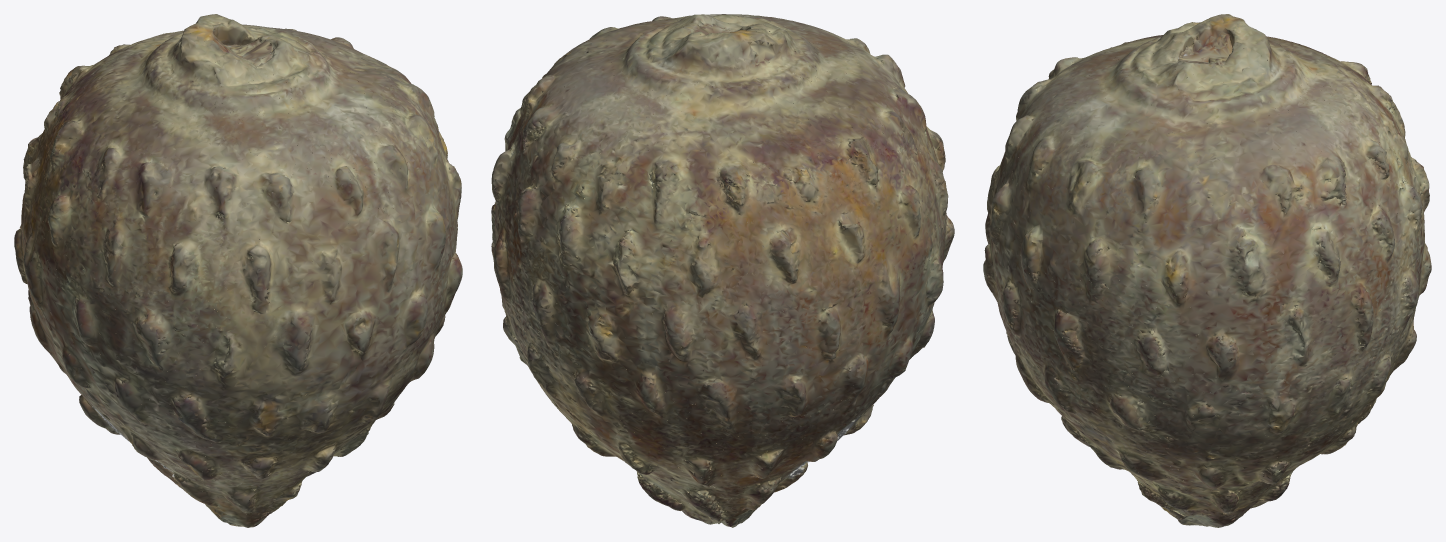
File: preview.glb
The picture shows the model from 3 angles, left to right: view 1: azimuth 30°, elevation 25°; view 2: azimuth 150°, elevation 25°; view 3: azimuth 270°, elevation 25°; orthographic projection. The views are drawn at different scales.
Parts seen in each view (by area): view 1: Object_2; view 2: Object_2; view 3: Object_2.
Part boxes in pixels (bbox=[...]): Object_2: bbox=[14, 14, 462, 527]; Object_2: bbox=[491, 14, 954, 527]; Object_2: bbox=[983, 14, 1431, 527].
Size of the model in its own units: 95.57 by 117 by 96.28.
